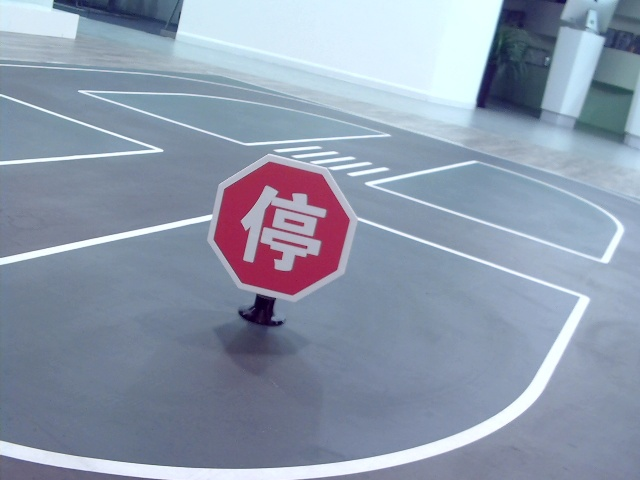stop: (240, 182, 320, 269)
